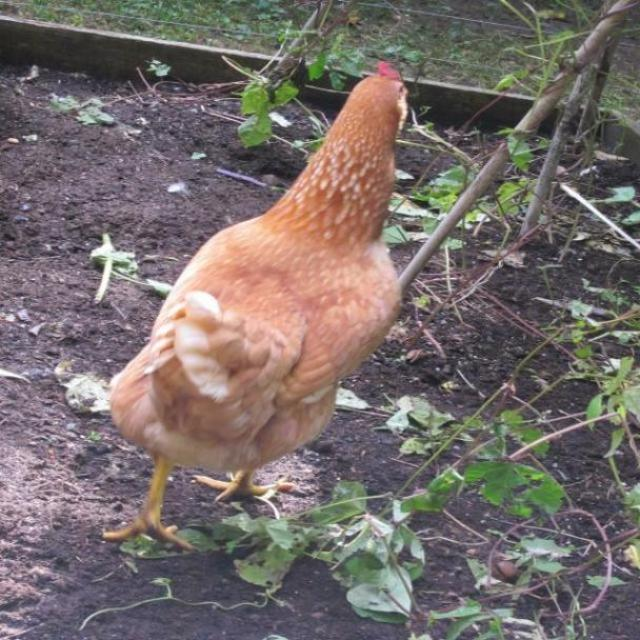Chicken: (115, 63, 408, 541)
